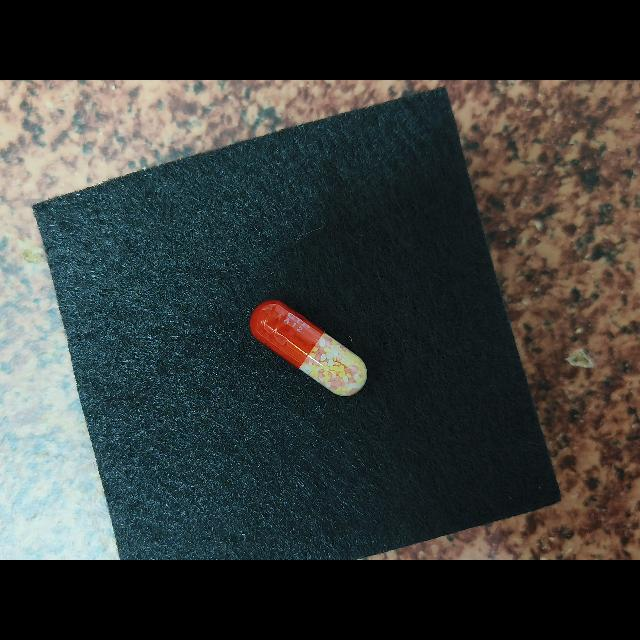Intact Capsule: (250, 300, 367, 396)
